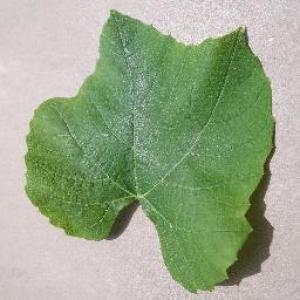Folha: (22, 8, 276, 293)
